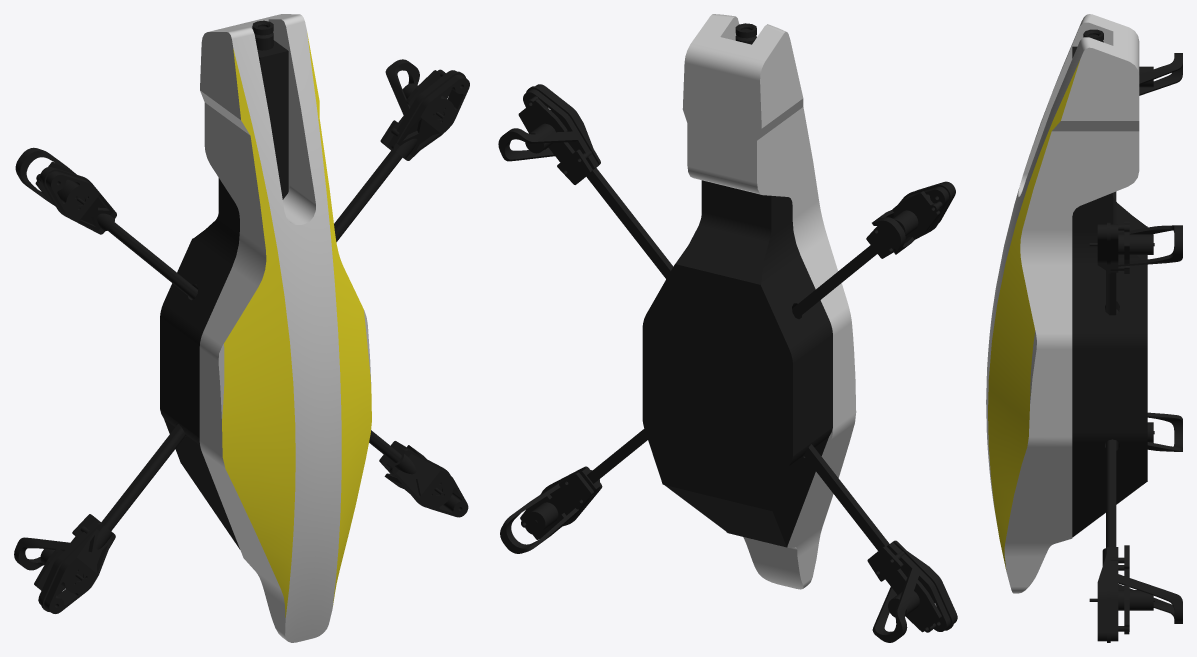
Rendered from ArDrone_Complete_outdoor_asas.obj.
The picture shows the model from 3 angles, left to right: view 1: azimuth 30°, elevation 25°; view 2: azimuth 150°, elevation 25°; view 3: azimuth 270°, elevation 25°; orthographic projection. The views are drawn at different scales.
Parts seen in each view (by area): view 1: Solid1:2, Solid1:1, Solid1:7, Solid1:13, Solid1:4, Solid1:10, Solid1:15, Solid1:9, Solid1:6, Solid1:8, Solid1:14; view 2: Solid1, Solid1:2, Solid1:1, Solid1:13, Solid1:7, Solid1:14, Solid1:8, Solid1:11, Solid1:5, Solid1:10, Solid1:9, Solid1:15 (+3 smaller); view 3: Solid1:2, Solid1:1, Solid1:10, Solid1:7, Solid1:12, Solid1:11, Solid1:8, Solid1:4, Solid1:13, Solid1:9.
Part boxes in pixels (<box>): Solid1:2: <box>199,14,371,642</box>; Solid1:1: <box>160,20,288,549</box>; Solid1:7: <box>385,59,469,160</box>; Solid1:13: <box>14,520,115,613</box>; Solid1:4: <box>15,147,116,234</box>; Solid1:10: <box>384,445,468,517</box>; Solid1:15: <box>101,424,185,530</box>; Solid1:9: <box>334,149,402,242</box>; Solid1:6: <box>108,222,197,299</box>; Solid1:8: <box>380,69,451,150</box>; Solid1:14: <box>34,514,100,595</box>; Solid1: <box>642,263,793,510</box>; Solid1:2: <box>682,14,856,589</box>; Solid1:1: <box>664,23,832,547</box>; Solid1:13: <box>872,540,957,642</box>; Solid1:7: <box>498,84,600,169</box>; Solid1:14: <box>867,546,941,632</box>; Solid1:8: <box>518,98,592,184</box>; Solid1:11: <box>520,472,594,539</box>; Solid1:5: <box>866,191,940,258</box>; Solid1:10: <box>500,466,602,553</box>; Solid1:9: <box>586,168,673,278</box>; Solid1:15: <box>804,444,889,550</box>; Solid1:2: <box>986,14,1139,593</box>; Solid1:1: <box>1072,29,1146,537</box>; Solid1:10: <box>1097,547,1182,642</box>; Solid1:7: <box>1097,222,1182,273</box>; Solid1:12: <box>1106,439,1116,547</box>; Solid1:11: <box>1089,545,1154,634</box>; Solid1:8: <box>1089,221,1154,273</box>; Solid1:4: <box>1139,53,1182,95</box>; Solid1:13: <box>1147,412,1182,451</box>; Solid1:9: <box>1106,271,1116,315</box>.
Size of the model in its own units: 270 by 357 by 114.
